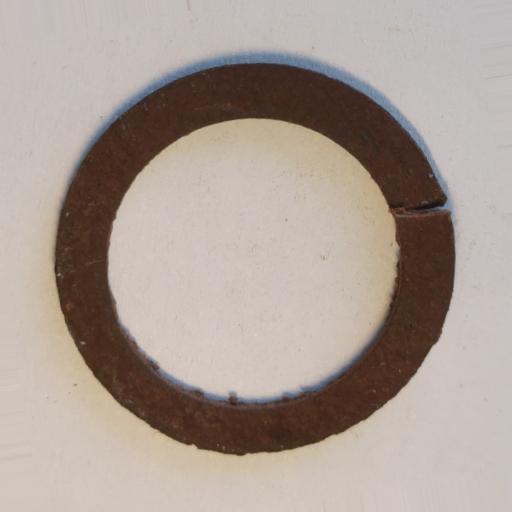defect: (390, 199, 451, 220)
